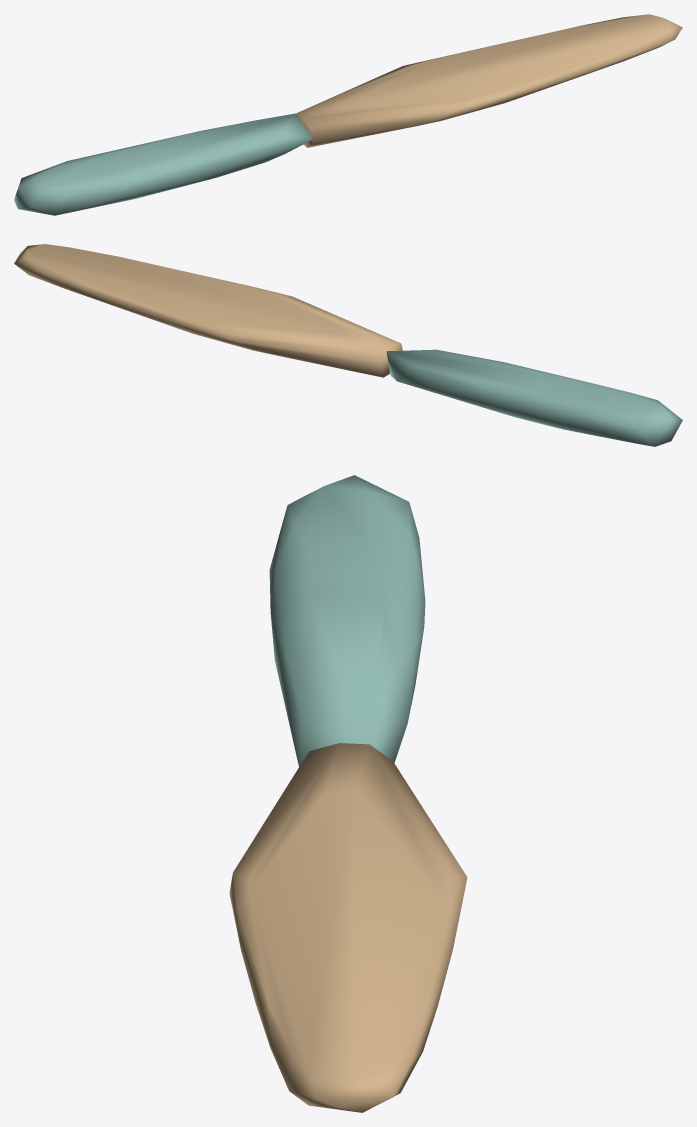
3 views of the same model, one above another, from view 1: azimuth 30°, elevation 25°; view 2: azimuth 150°, elevation 25°; view 3: azimuth 270°, elevation 25° (orthographic). The views are drawn at different scales.
Size of the model in its own units: 2.01 by 0.1121 by 0.3157.
